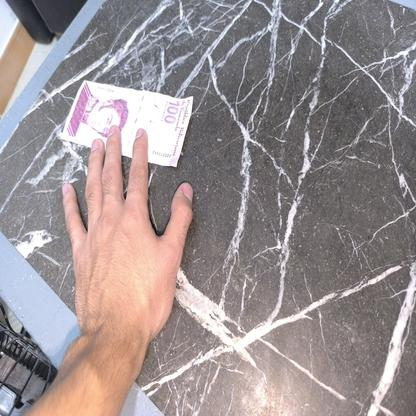one_hundred-front-vef: (61, 80, 194, 167)
